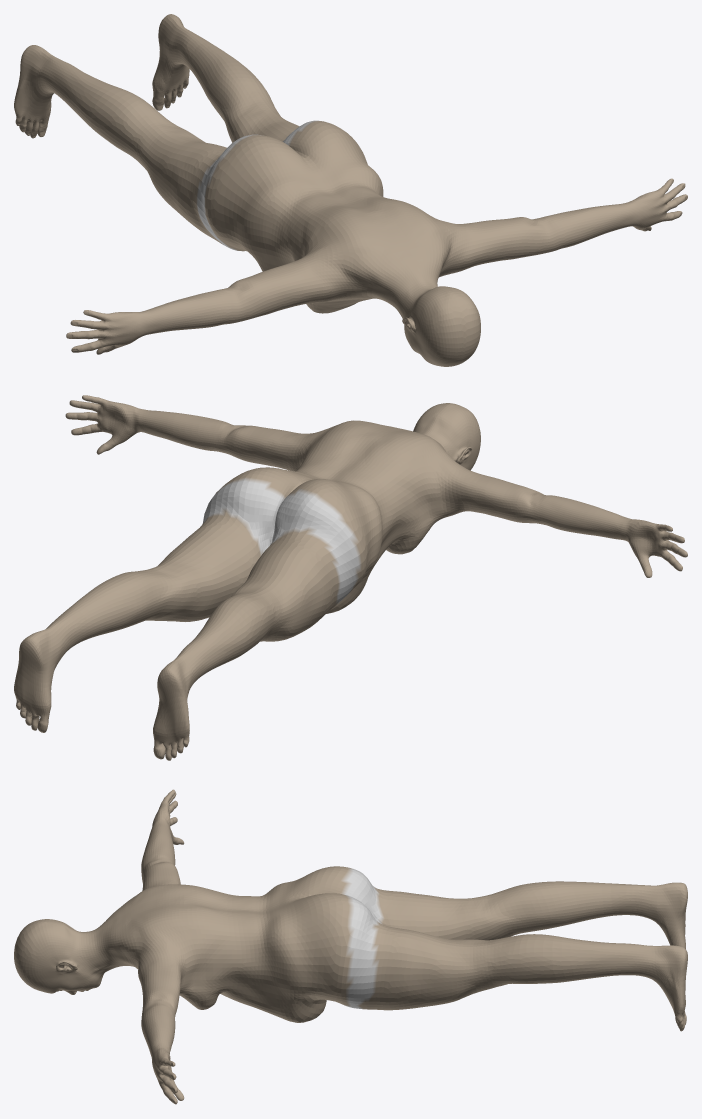
The picture shows the model from 3 angles, top to bottom: view 1: azimuth 30°, elevation 25°; view 2: azimuth 150°, elevation 25°; view 3: azimuth 270°, elevation 25°; orthographic projection. The views are drawn at different scales.
Visible parts, largest first — view 1: geometry_0; view 2: geometry_0; view 3: geometry_0.
Boxes of the visible parts, bbox=[...] form: geometry_0: bbox=[14, 14, 687, 366]; geometry_0: bbox=[14, 395, 687, 760]; geometry_0: bbox=[14, 789, 687, 1104].
Bounding box in the file's own units: 1.67 × 0.3664 × 1.71.
